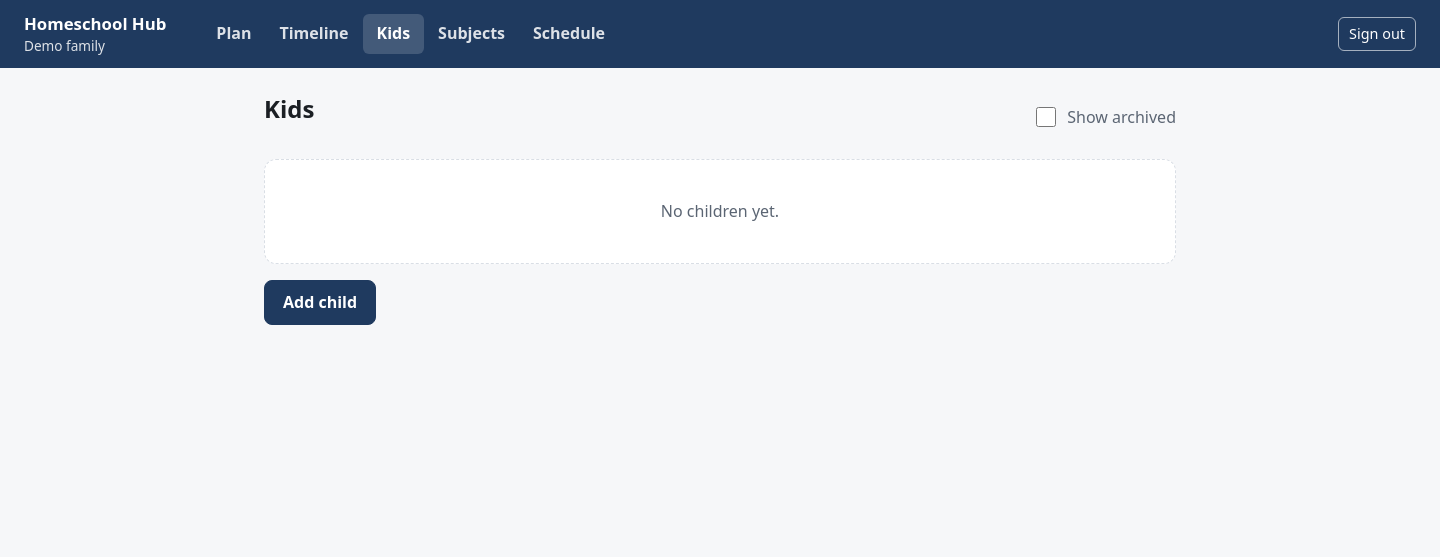
Add child › picking a swatch sends that color
Click the button "Add child".
click(320, 303)  # box [264,280,376,325]
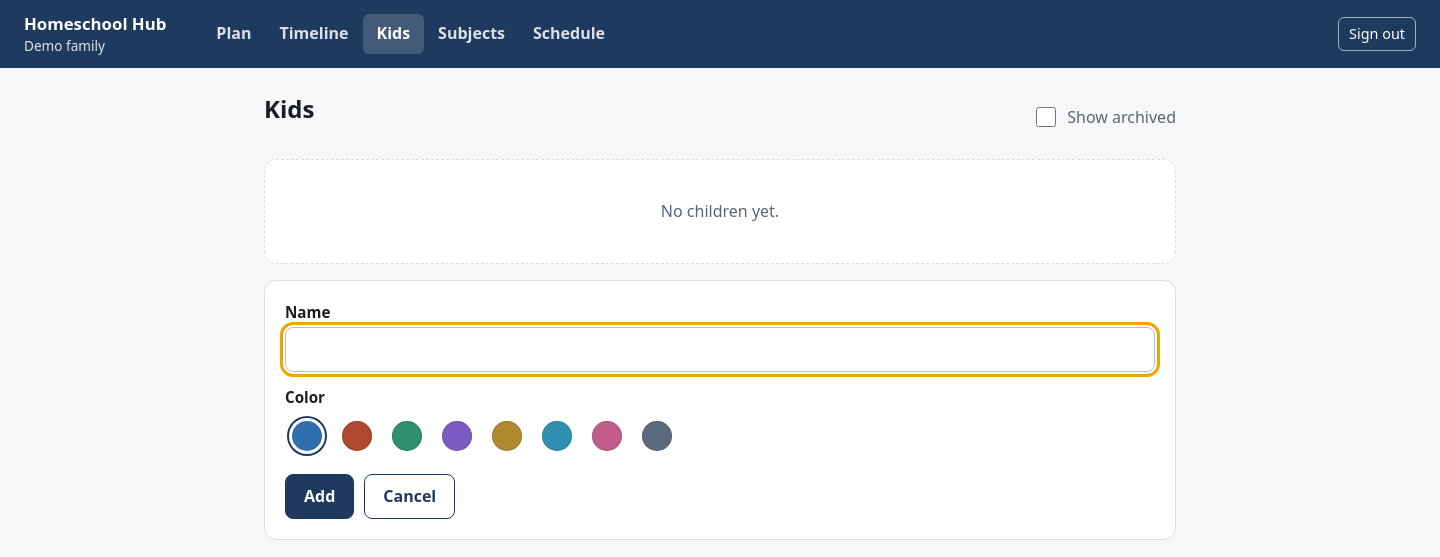
Type "Ada" into the field labelled "Name".
click(720, 350); type("Ada")  # box [285,327,1155,372]
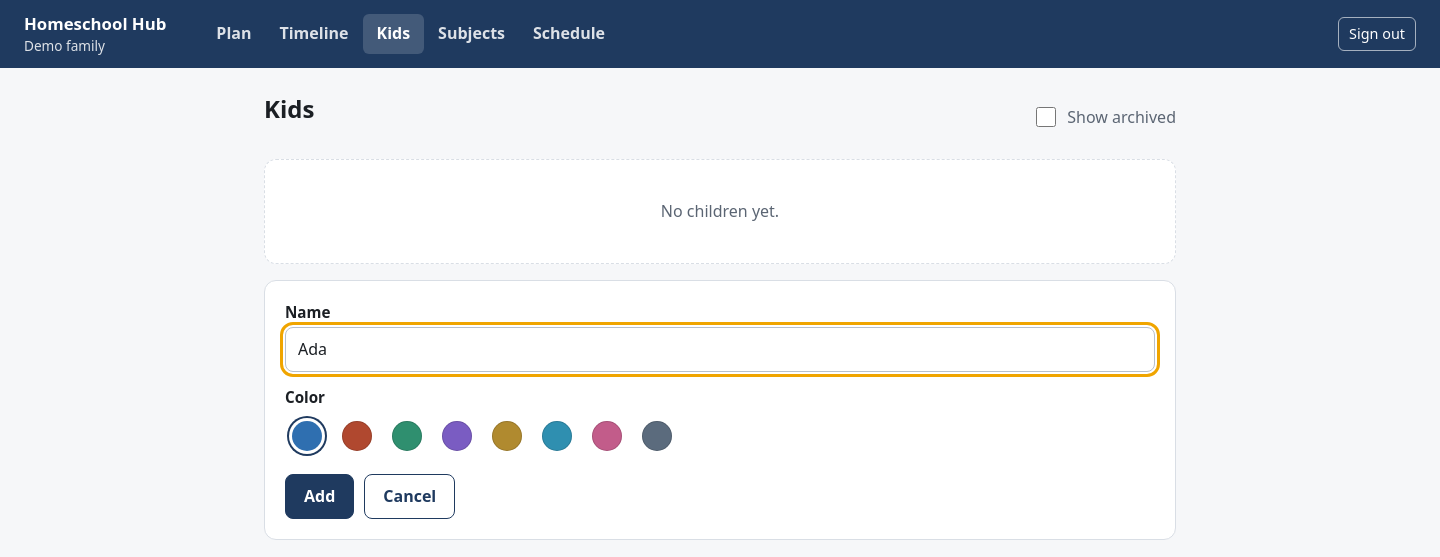
Click the radio button named "Purple".
click(457, 436)  # box [442,421,472,451]
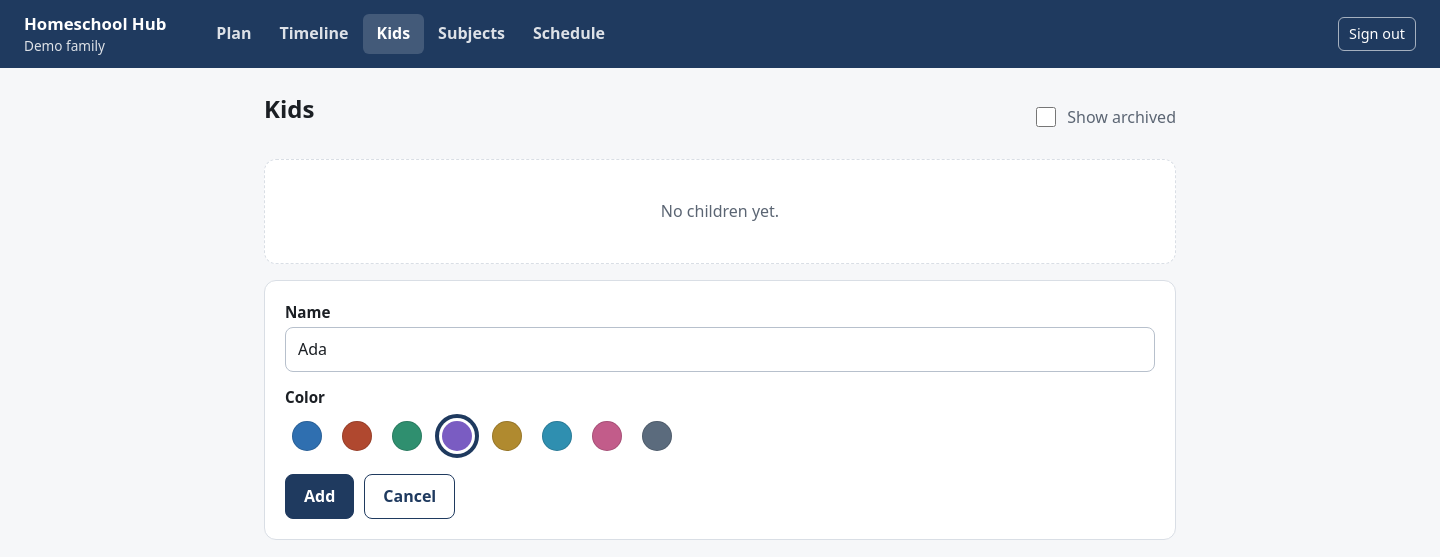
Click the button "Add".
click(320, 497)  # box [285,474,354,520]
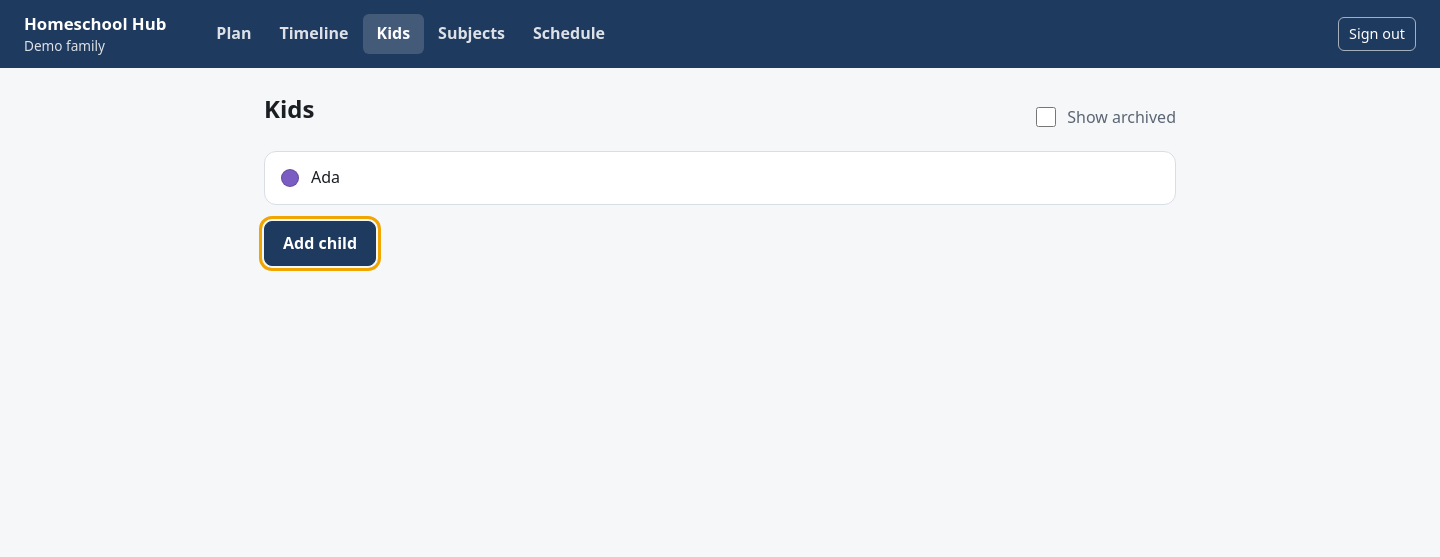
Expected: the text "Ada" is shown, [311,166,340,188]
